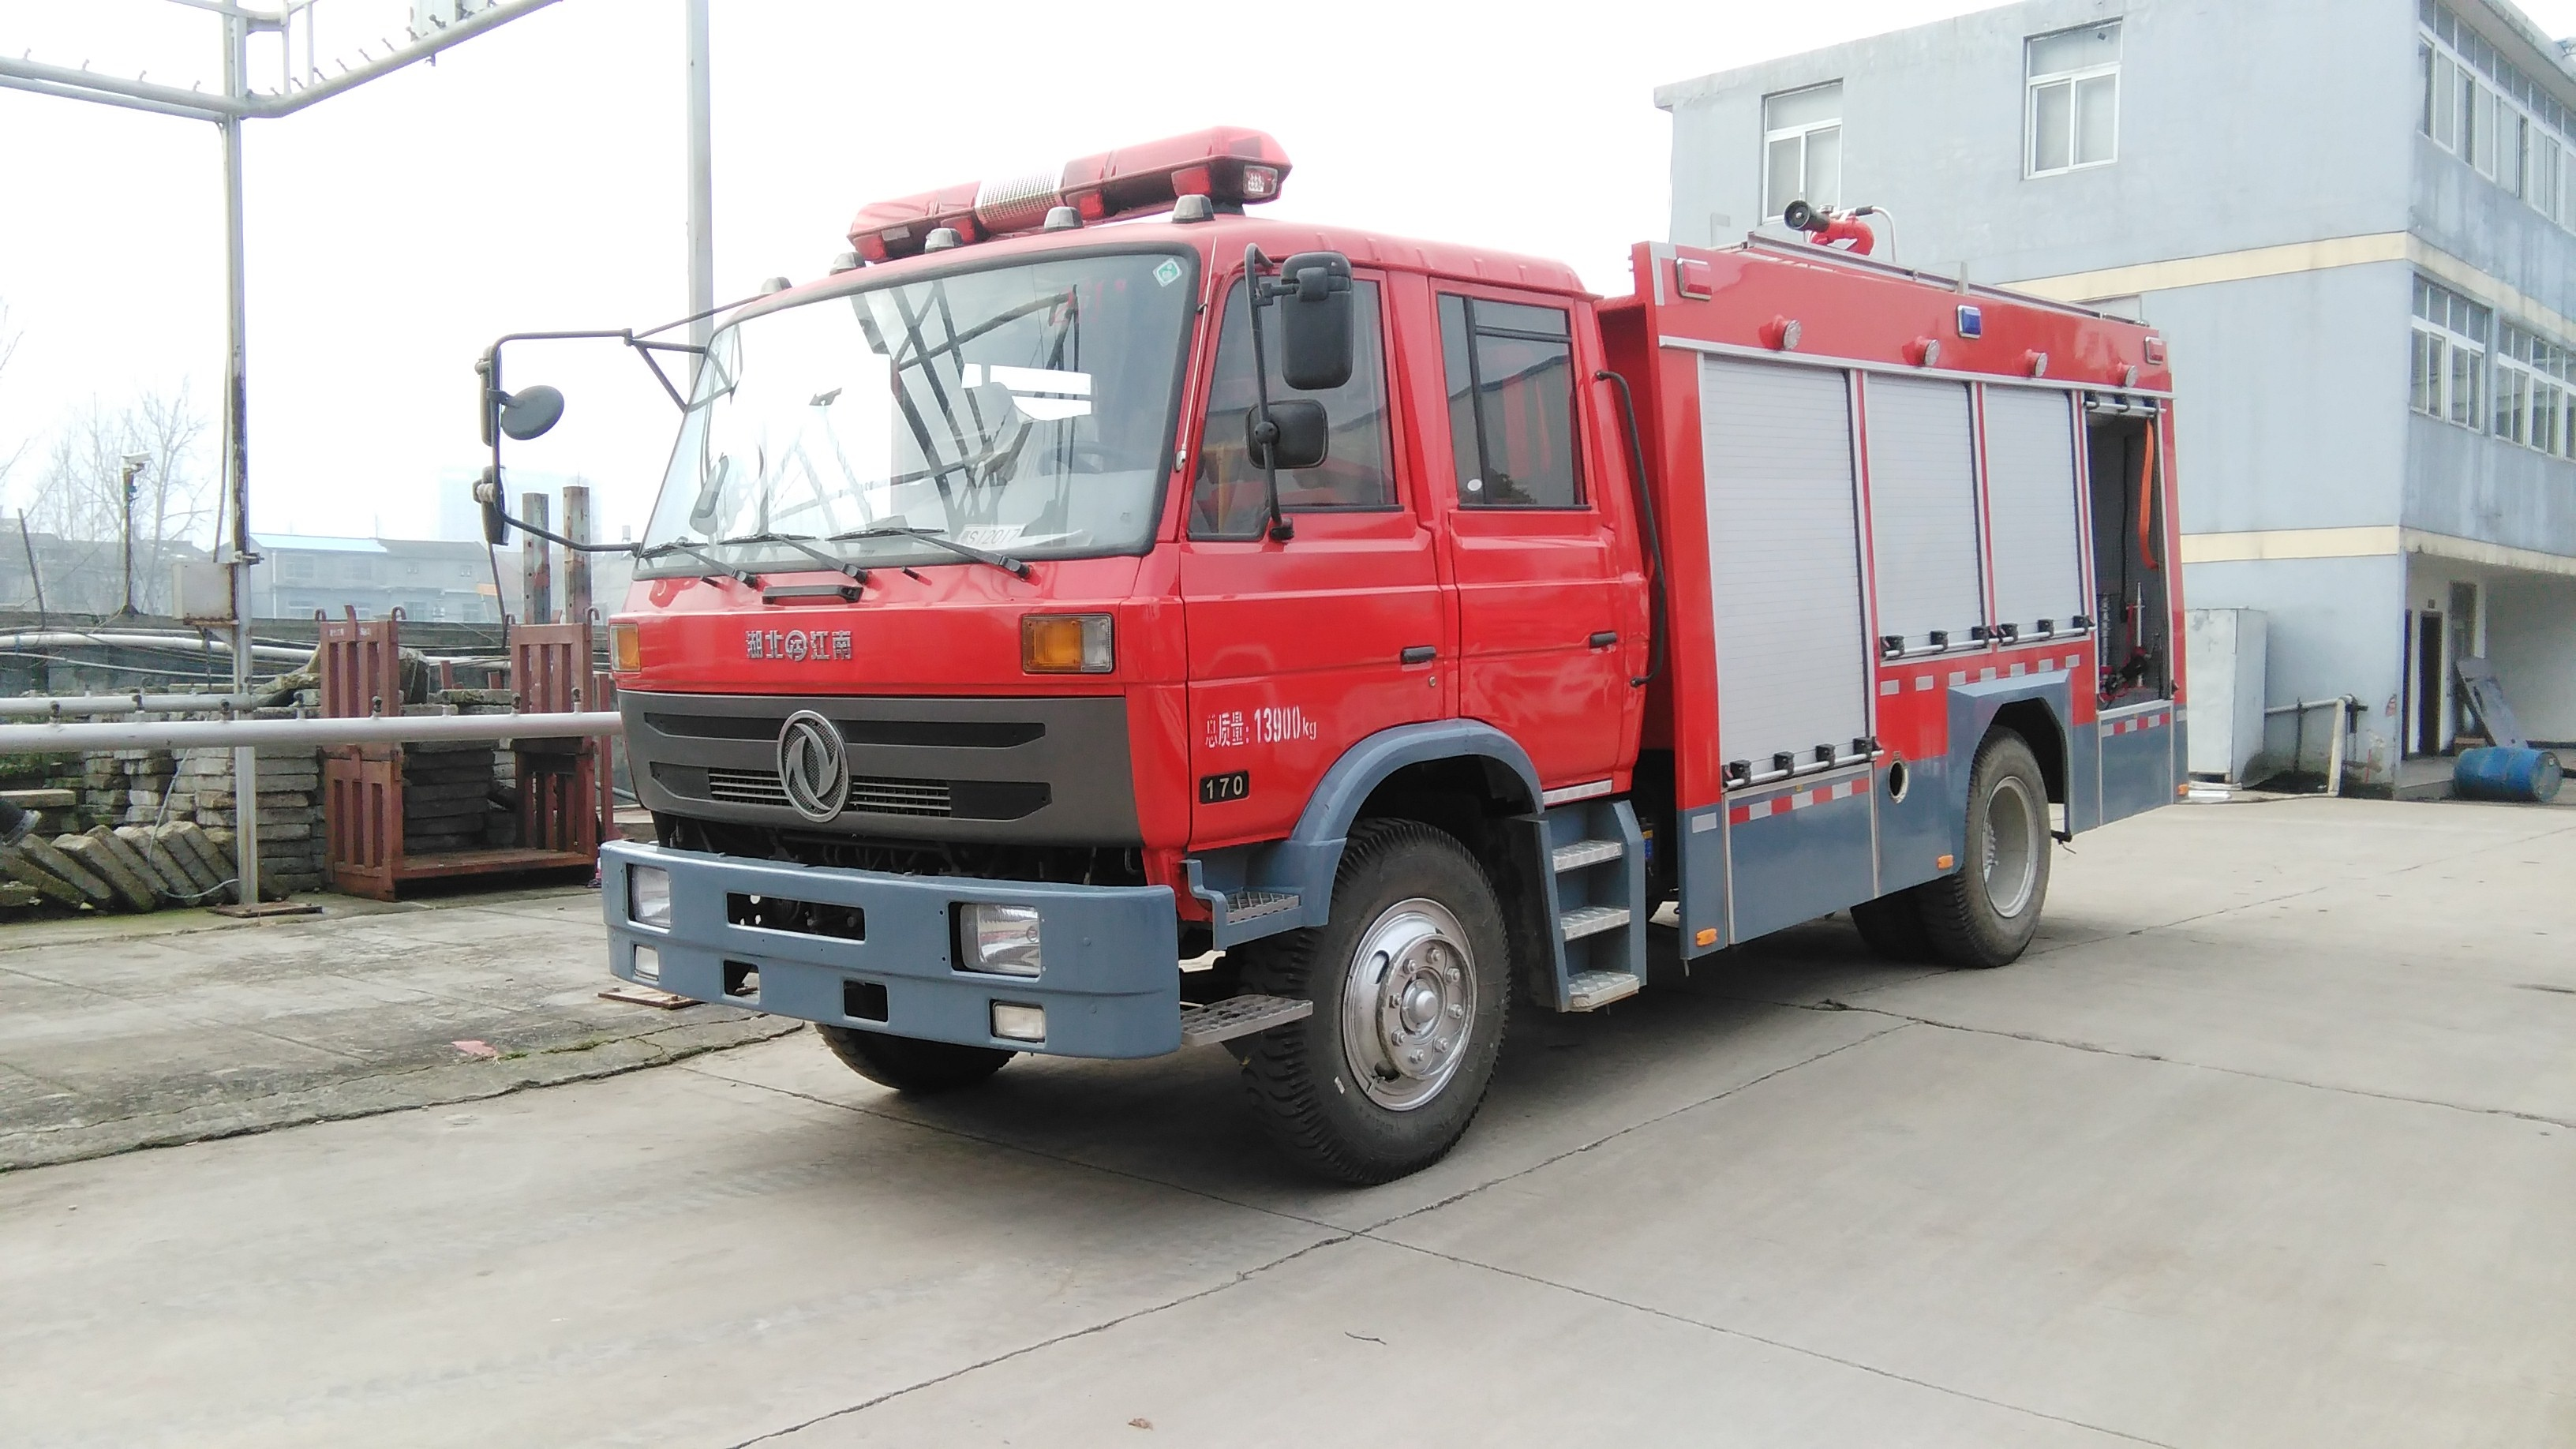fire engine: (508, 195, 2249, 1203)
